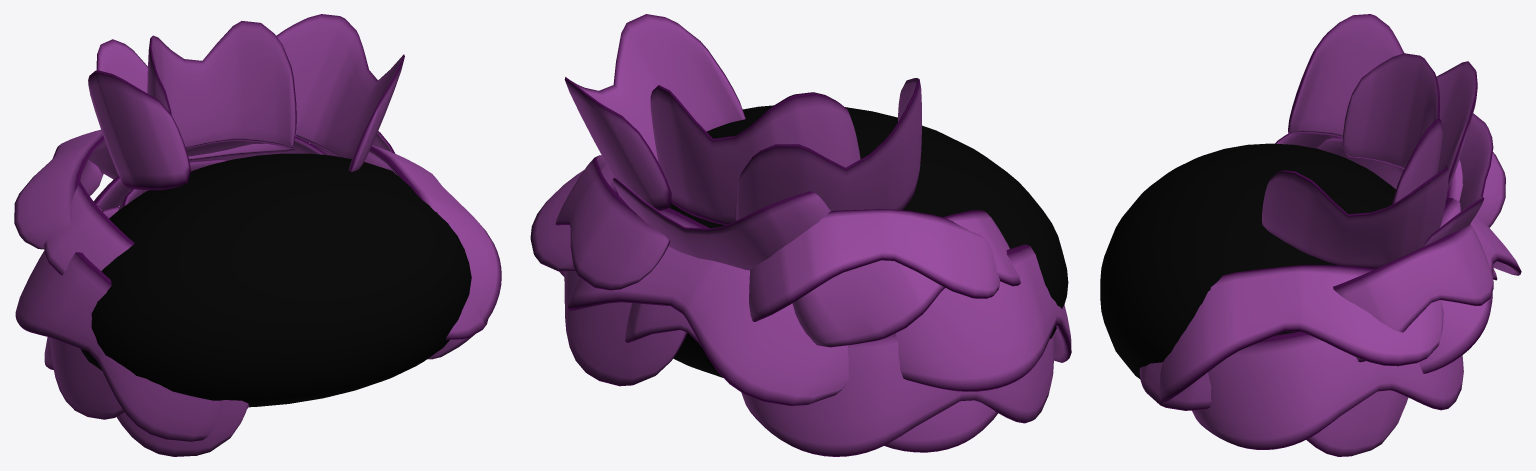
Rendered from Sns shell House .fbx.
3 renders of one model, left to right at view 1: azimuth 30°, elevation 25°; view 2: azimuth 150°, elevation 25°; view 3: azimuth 270°, elevation 25°, orthographic. The views are drawn at different scales.
Parts seen in each view (by area): view 1: polySurface6; view 2: polySurface6; view 3: polySurface6.
Part boxes in pixels (x1=…): polySurface6: x1=14, y1=14, x2=501, y2=456; polySurface6: x1=530, y1=14, x2=1071, y2=456; polySurface6: x1=1100, y1=14, x2=1521, y2=456.
Size of the model in its own units: 1032 by 732 by 875.
